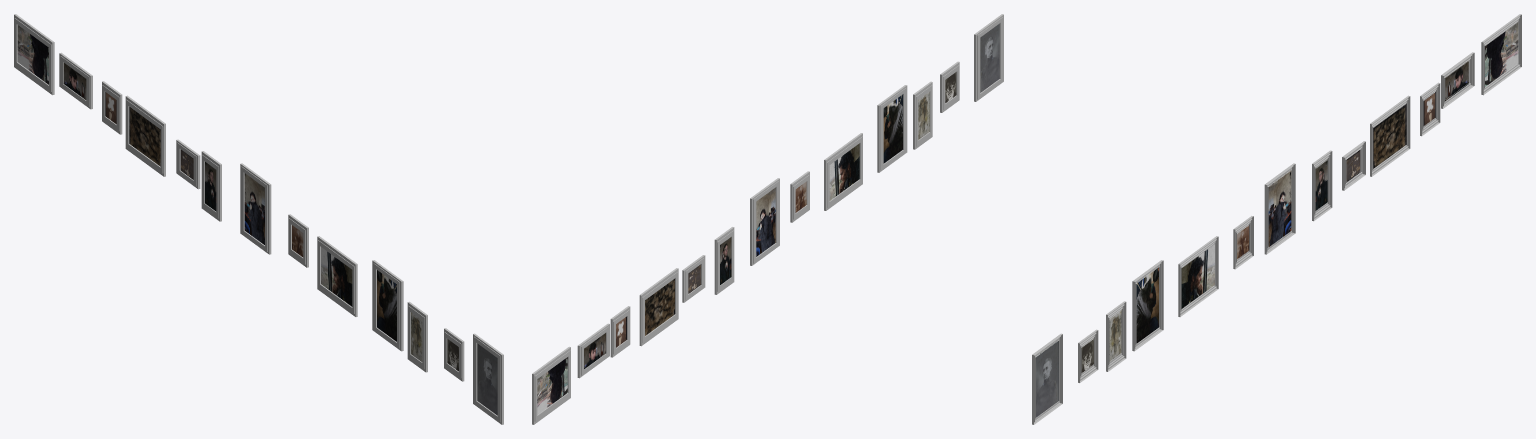
The model's file is sliki.fbx.
The picture shows the model from 3 angles, left to right: view 1: azimuth 30°, elevation 25°; view 2: azimuth 150°, elevation 25°; view 3: azimuth 330°, elevation 25°; orthographic projection. The views are drawn at different scales.
Parts seen in each view (by area): view 1: Plane_006, Plane_012, Plane_008, Plane_003, Plane_002, PictureFr0_004, PictureFr0_002, Plane_009, PictureFr0_001, PictureFr0_005, PictureFr0, PictureFr0_003 (+10 smaller); view 2: Plane_008, Plane_002, Plane_012, Plane_009, Plane_006, PictureFr0_004, PictureFr0_005, PictureFr0_002, Plane_003, PictureFr0_001, PictureFr0, PictureFr0_003 (+10 smaller); view 3: Plane_006, Plane_012, Plane_009, Plane_008, Plane_003, Plane_002, PictureFr0_004, PictureFr0_002, PictureFr0_001, PictureFr0, PictureFr0_003, PictureFr0_005 (+10 smaller).
Boxes of the visible parts, bbox=[...] form: Plane_006: bbox=[244, 173, 264, 244]; Plane_012: bbox=[477, 343, 497, 415]; Plane_008: bbox=[321, 247, 352, 306]; Plane_003: bbox=[129, 107, 160, 166]; Plane_002: bbox=[17, 25, 48, 84]; PictureFr0_004: bbox=[372, 260, 403, 351]; PictureFr0_002: bbox=[240, 163, 271, 254]; Plane_009: bbox=[377, 270, 396, 341]; PictureFr0_001: bbox=[125, 95, 165, 176]; PictureFr0_005: bbox=[473, 333, 503, 424]; PictureFr0: bbox=[14, 14, 54, 95]; PictureFr0_003: bbox=[317, 236, 357, 316]; Plane_008: bbox=[829, 143, 859, 200]; Plane_002: bbox=[537, 357, 567, 414]; Plane_012: bbox=[980, 23, 999, 92]; Plane_009: bbox=[883, 94, 902, 163]; Plane_006: bbox=[756, 187, 775, 256]; PictureFr0_004: bbox=[877, 85, 907, 172]; PictureFr0_005: bbox=[974, 14, 1003, 101]; PictureFr0_002: bbox=[750, 178, 779, 265]; Plane_003: bbox=[645, 278, 674, 335]; PictureFr0_001: bbox=[639, 268, 678, 346]; PictureFr0: bbox=[532, 346, 570, 424]; PictureFr0_003: bbox=[824, 133, 862, 210]; Plane_006: bbox=[1268, 170, 1291, 246]; Plane_012: bbox=[1036, 341, 1058, 417]; Plane_009: bbox=[1136, 267, 1158, 343]; Plane_008: bbox=[1181, 244, 1214, 308]; Plane_003: bbox=[1373, 104, 1406, 168]; Plane_002: bbox=[1485, 22, 1518, 86]; PictureFr0_004: bbox=[1132, 260, 1163, 351]; PictureFr0_002: bbox=[1264, 163, 1295, 254]; PictureFr0_001: bbox=[1370, 95, 1410, 176]; PictureFr0: bbox=[1481, 14, 1521, 95]; PictureFr0_003: bbox=[1178, 236, 1218, 316]; PictureFr0_005: bbox=[1032, 333, 1062, 424].
Bounding box in the file's own units: 0.5728 × 5.89 × 72.43.
